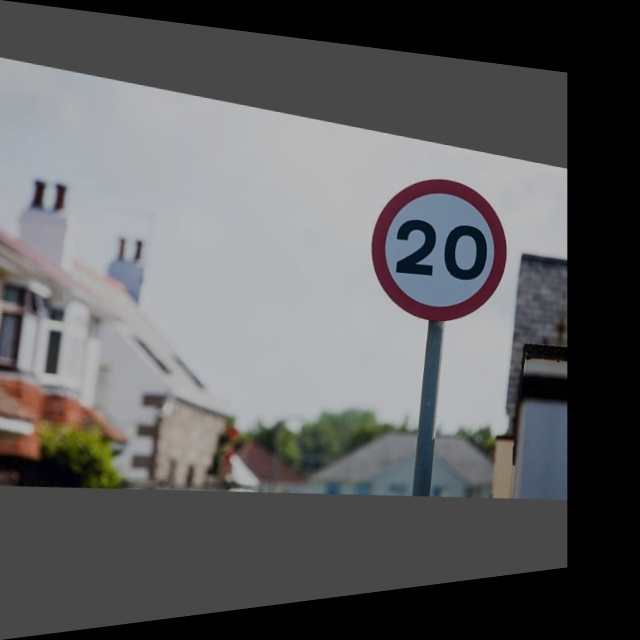Speed_Limit_20: (366, 168, 508, 326)
